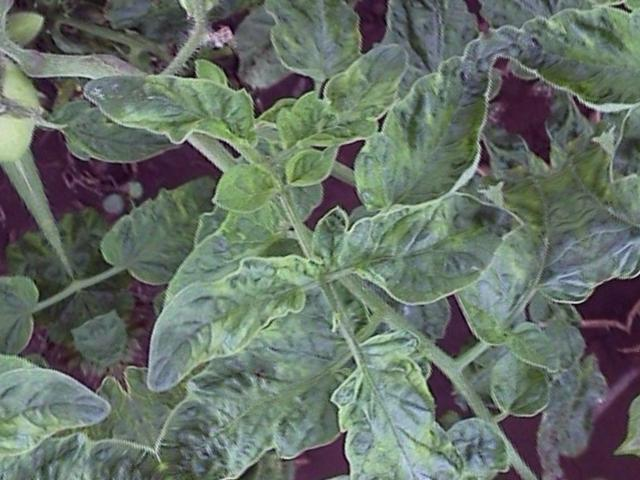Tomato leaf mosaic virus: (310, 26, 536, 227), (319, 156, 537, 335), (111, 233, 330, 399), (74, 22, 267, 202), (298, 328, 482, 480), (145, 339, 341, 480), (262, 36, 434, 168), (244, 0, 374, 95), (201, 150, 286, 226), (502, 309, 569, 382)
